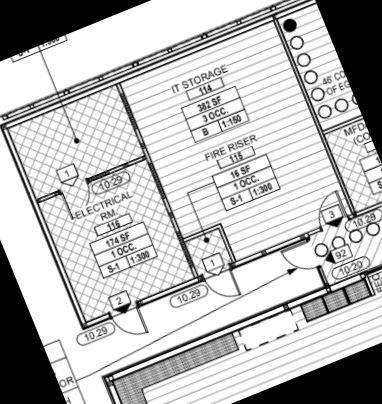door: (277, 236, 324, 282), (109, 302, 154, 347), (306, 187, 350, 231), (57, 178, 99, 222), (203, 266, 246, 307)
